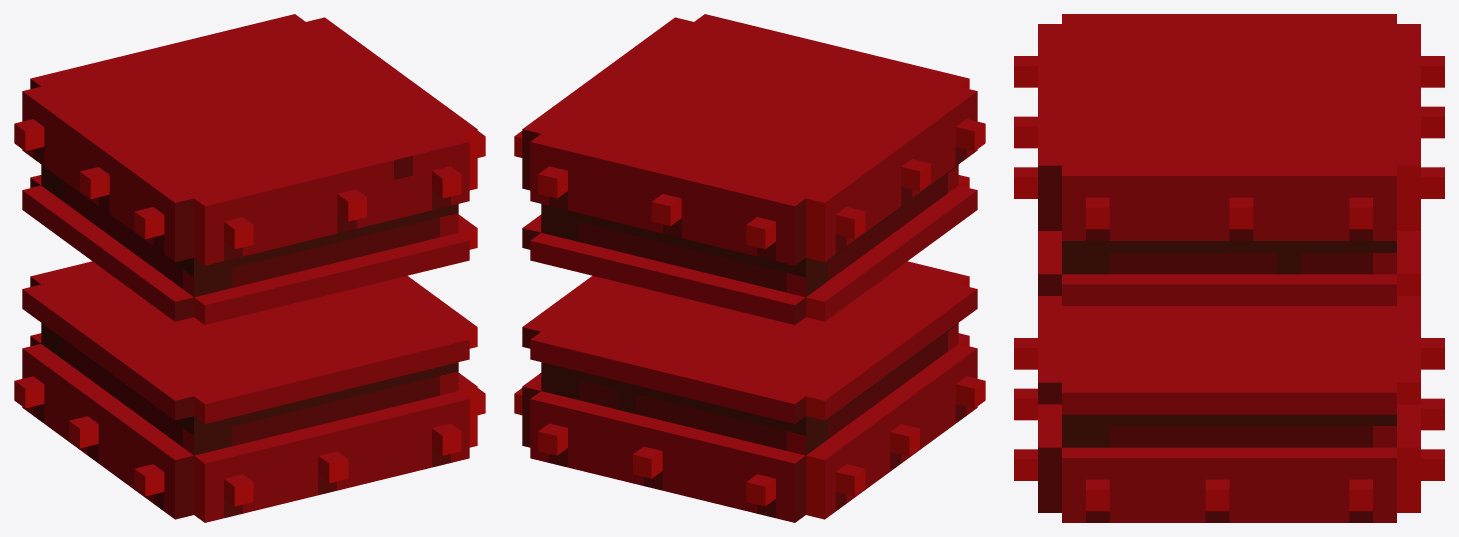
The model's file is pivot_base_redao.fezao.glb.
3 views of the same model, side by side, from view 1: azimuth 30°, elevation 25°; view 2: azimuth 150°, elevation 25°; view 3: azimuth 270°, elevation 25° (orthographic). The views are drawn at different scales.
Visible parts, largest first — view 1: PIVOT_BASE_REDAO; view 2: PIVOT_BASE_REDAO; view 3: PIVOT_BASE_REDAO.
Part boxes in pixels (x1,y1,x2,y2): PIVOT_BASE_REDAO: [14, 14, 485, 522]; PIVOT_BASE_REDAO: [514, 14, 985, 522]; PIVOT_BASE_REDAO: [1014, 14, 1444, 522].
Size of the model in its own units: 1.12 by 1 by 1.12.
1 material, 1 textured.
